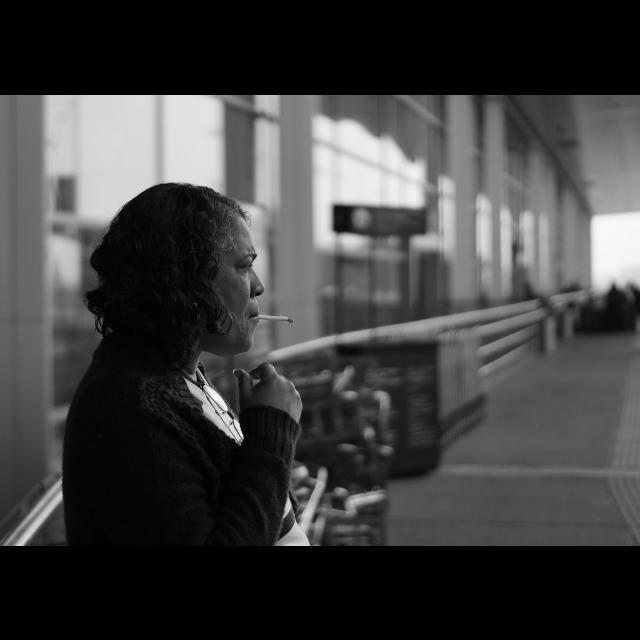rokok: (250, 308, 298, 326)
